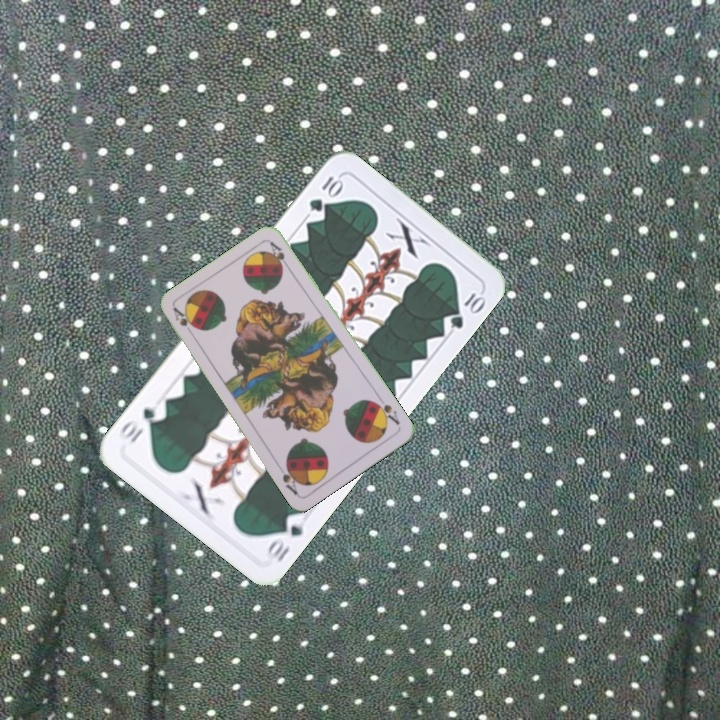G10: (261, 508, 309, 566), (304, 172, 345, 215)
SA: (370, 393, 402, 428), (169, 304, 197, 340)
